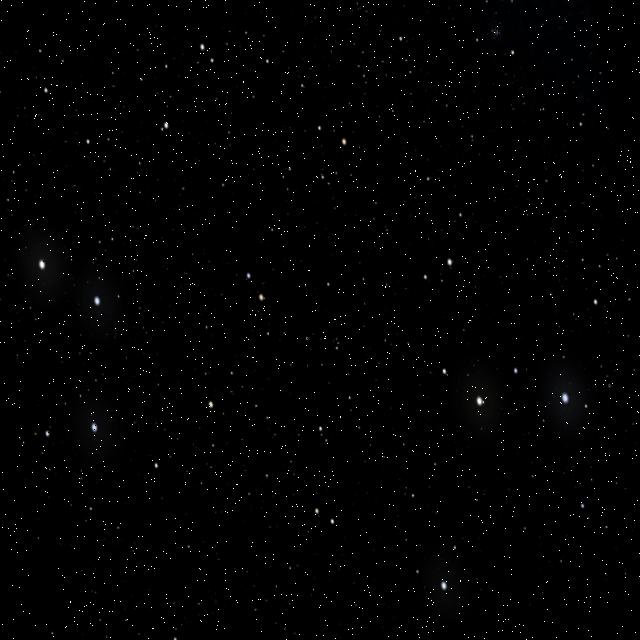Leo Minor: (272, 168, 370, 434)
